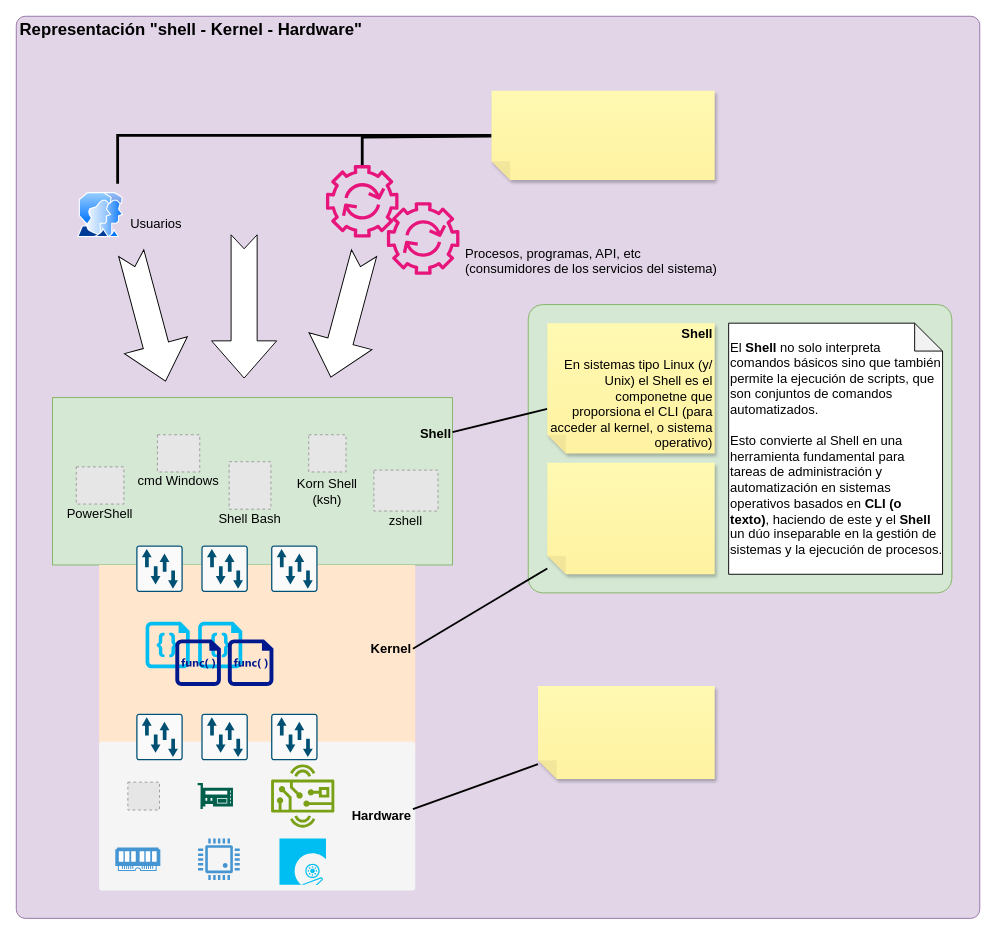
This 996x935 diagram has some shape labels left out. Grey dashed boxes stand in for pictures. Each missing label, with the centre of its shape:
Actores / disparadores (consumidores de los servicios del sistema): point (603, 136)
Hardware del sistema (recurso o arquitectura física/real o virtual del sistema): point (627, 733)
Kernel Kernel o nucleo del sistema. Sistema operativo.: point (631, 519)
